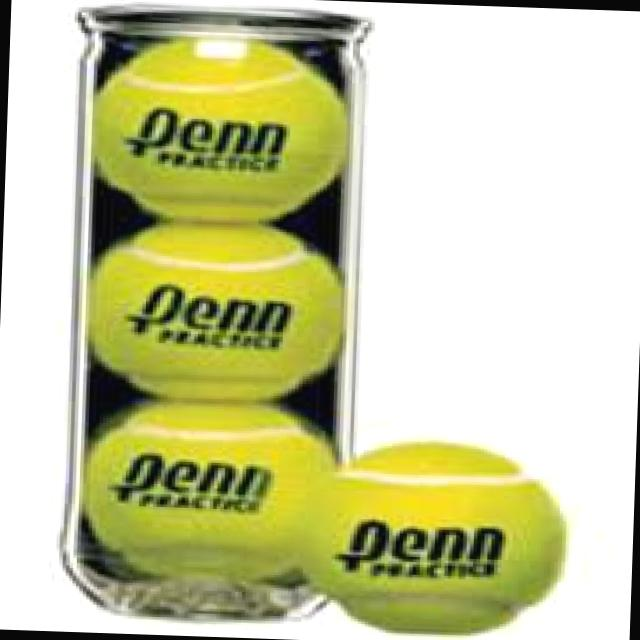Tennis Ball: (306, 441, 569, 639), (93, 38, 349, 224), (90, 222, 344, 408), (82, 402, 338, 582)
